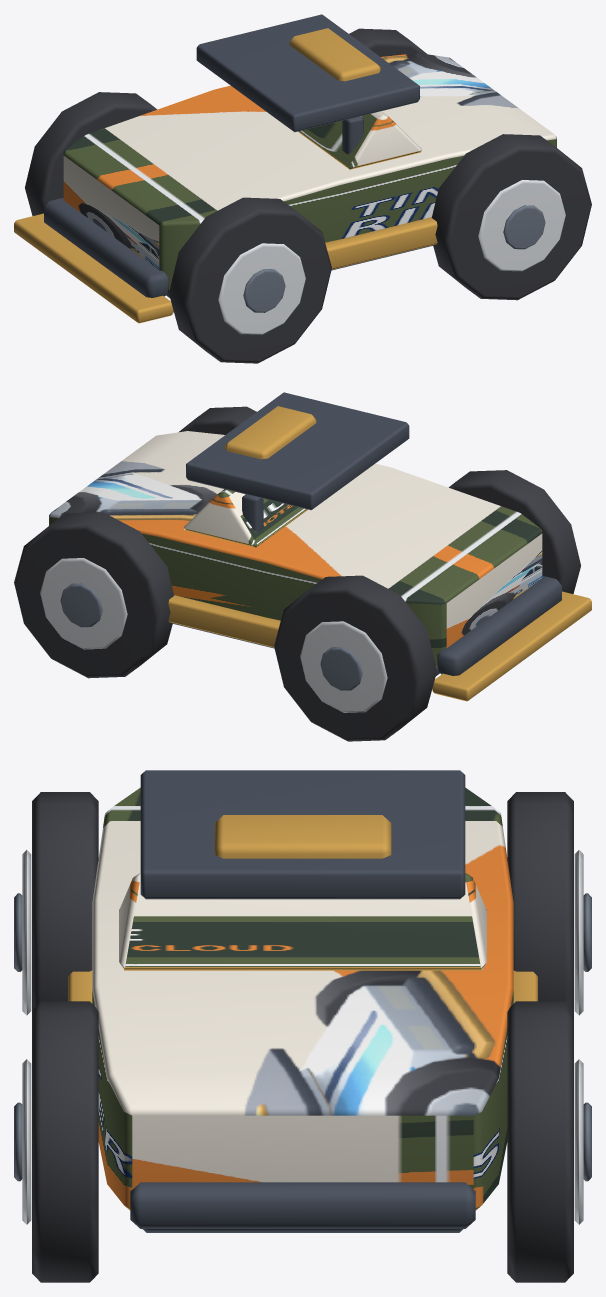
The picture shows the model from 3 angles, top to bottom: view 1: azimuth 30°, elevation 25°; view 2: azimuth 150°, elevation 25°; view 3: azimuth 270°, elevation 25°; orthographic projection. The views are drawn at different scales.
Parts seen in each view (by area): view 1: DP-03_connected_shell, Tire, Tire.002, cage top, Tire.001, Rim, Rim.002, custom chin, front bumper, DP-03_cabin, custom side guard, custom equipment (+4 smaller); view 2: DP-03_connected_shell, Tire.001, Tire.003, cage top, Tire, Rim.001, Rim.003, custom chin, front bumper, DP-03_cabin, custom side guard.001, custom equipment (+4 smaller); view 3: DP-03_connected_shell, cage top, DP-03_cabin, Tire.002, Tire.003, rear bumper, Tire, Tire.001, custom equipment, Rim.002, Rim.003, Rim (+8 smaller).
Part boxes in pixels (left/top/right/bottom): DP-03_connected_shell: left=63, top=53, right=556, bottom=289; Tire: left=169, top=197, right=331, bottom=363; Tire.002: left=431, top=134, right=591, bottom=300; cage top: left=196, top=14, right=419, bottom=132; Tire.001: left=25, top=92, right=156, bottom=215; Rim: left=218, top=243, right=305, bottom=334; Rim.002: left=478, top=180, right=565, bottom=271; custom chin: left=14, top=213, right=173, bottom=323; front bumper: left=44, top=198, right=169, bottom=297; DP-03_cabin: left=298, top=111, right=421, bottom=169; custom side guard: left=325, top=217, right=437, bottom=269; custom equipment: left=289, top=28, right=380, bottom=81; DP-03_connected_shell: left=49, top=431, right=542, bottom=667; Tire.001: left=274, top=575, right=436, bottom=741; Tire.003: left=14, top=512, right=174, bottom=678; cage top: left=186, top=392, right=409, bottom=510; Tire: left=449, top=470, right=580, bottom=593; Rim.001: left=300, top=621, right=387, bottom=712; Rim.003: left=40, top=558, right=127, bottom=649; custom chin: left=432, top=591, right=591, bottom=701; front bumper: left=436, top=576, right=561, bottom=675; DP-03_cabin: left=184, top=489, right=307, bottom=547; custom side guard.001: left=168, top=595, right=280, bottom=647; custom equipment: left=225, top=406, right=316, bottom=459; DP-03_connected_shell: left=92, top=787, right=513, bottom=1210; cage top: left=140, top=770, right=465, bottom=899; DP-03_cabin: left=119, top=873, right=486, bottom=970; Tire.002: left=32, top=1001, right=98, bottom=1282; Tire.003: left=507, top=1001, right=573, bottom=1282; rear bumper: left=130, top=1182, right=475, bottom=1228; Tire: left=32, top=792, right=98, bottom=1009; Tire.001: left=507, top=792, right=573, bottom=1009; custom equipment: left=214, top=815, right=391, bottom=858; Rim.002: left=22, top=1059, right=31, bottom=1224; Rim.003: left=574, top=1059, right=583, bottom=1224; Rim: left=22, top=850, right=31, bottom=1015.
Size of the model in its own units: 329 by 154 by 225.
